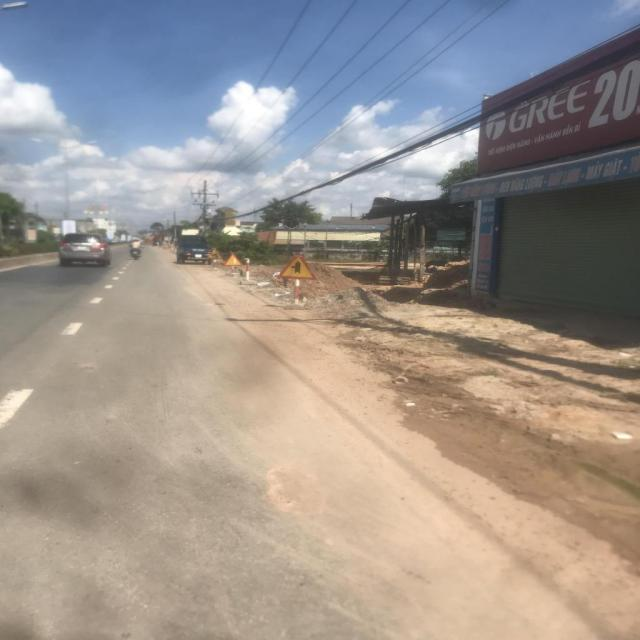cho_ngoat_nguy_hiem_lien_tiep: (206, 248, 223, 260)
giao_nhau_voi_duong_khong_uu_tien: (276, 252, 318, 280)
khac: (223, 252, 243, 266)
